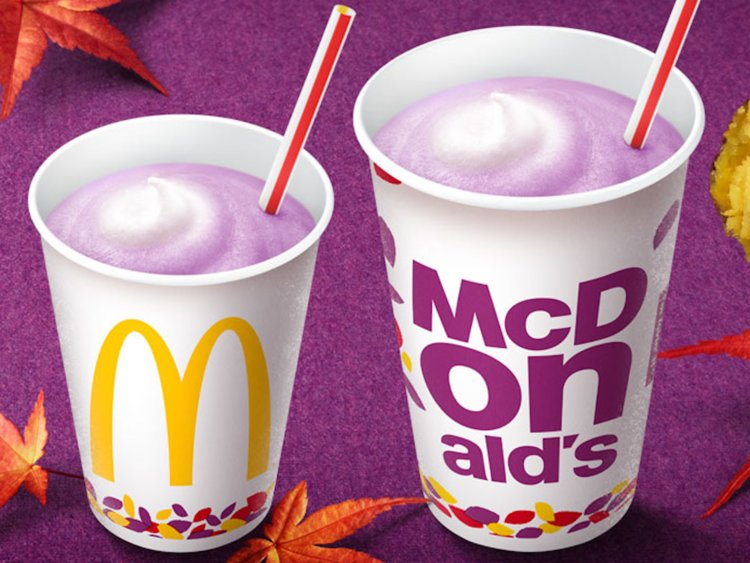mcdonalds: (82, 313, 279, 491)
